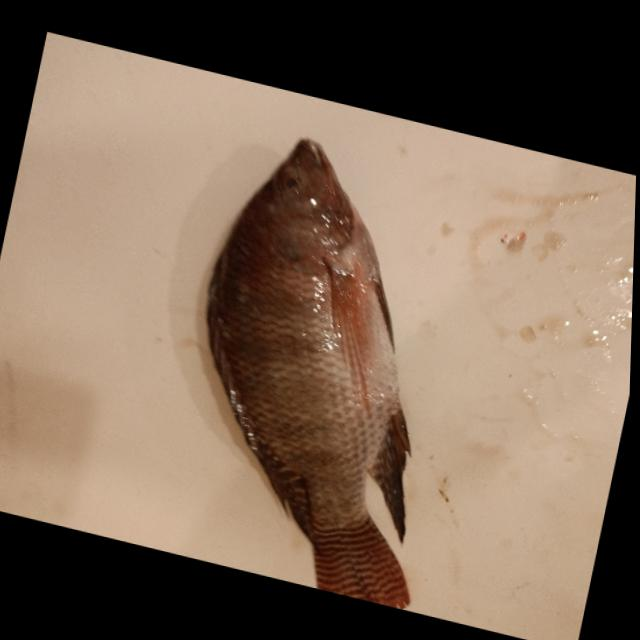Tilapia: (145, 113, 497, 616)
